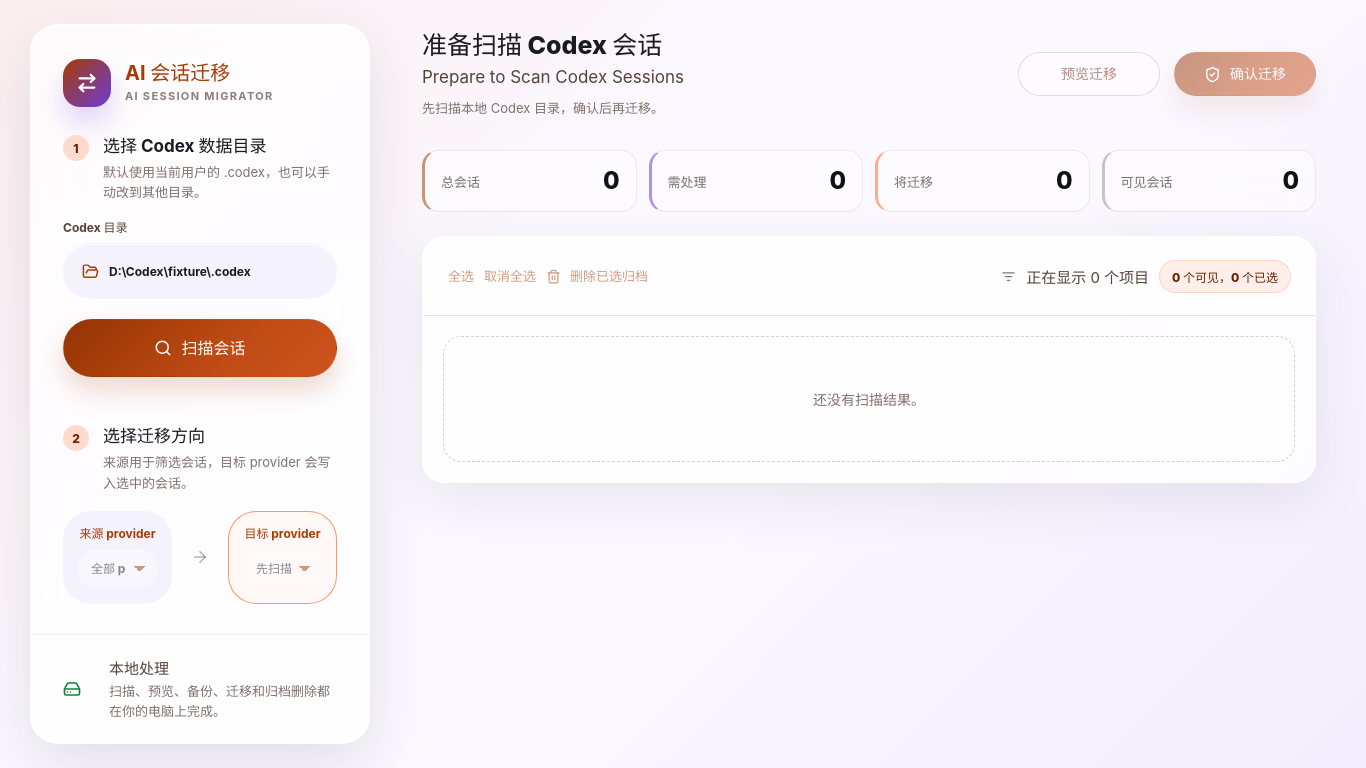
Test: scan shows active sessions before archived sessions with lifecycle badges
The image size is (1366, 768).
Expected: the field showing "D:\\Codex\\fixture\\.codex" is shown, [109,264,321,279]
Click the button "扫描会话".
click(200, 348)  # box [63,319,337,377]
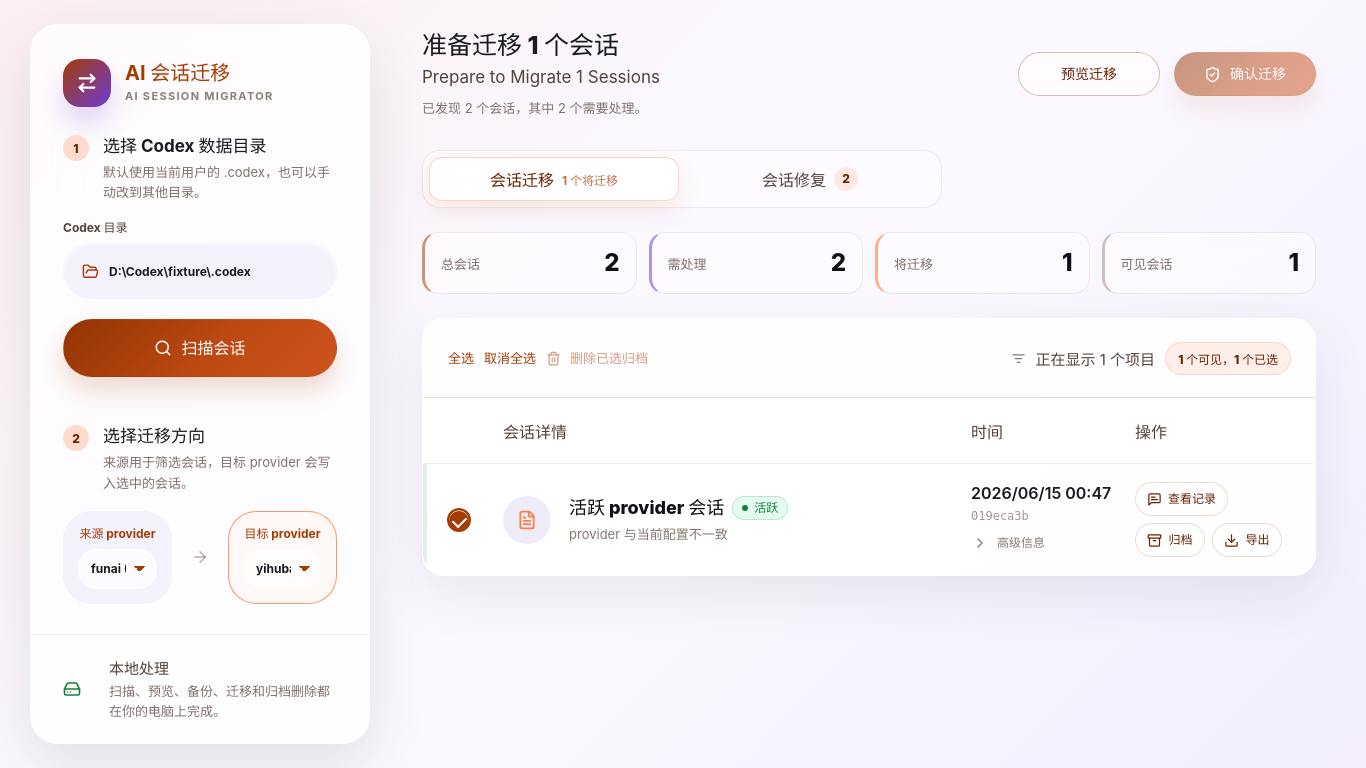
Expected: the element "归档 provider 会话" is not shown
Expected: the dropdown labelled "来源 provider" shows "funai (1)"
Expected: the text "1 个可见，1 个已选" is shown, [1165,342,1291,375]
Select "全部 provider (2)" in the dropdown labelled "来源 provider" at x=118, y=569, box [78,549,157,589]
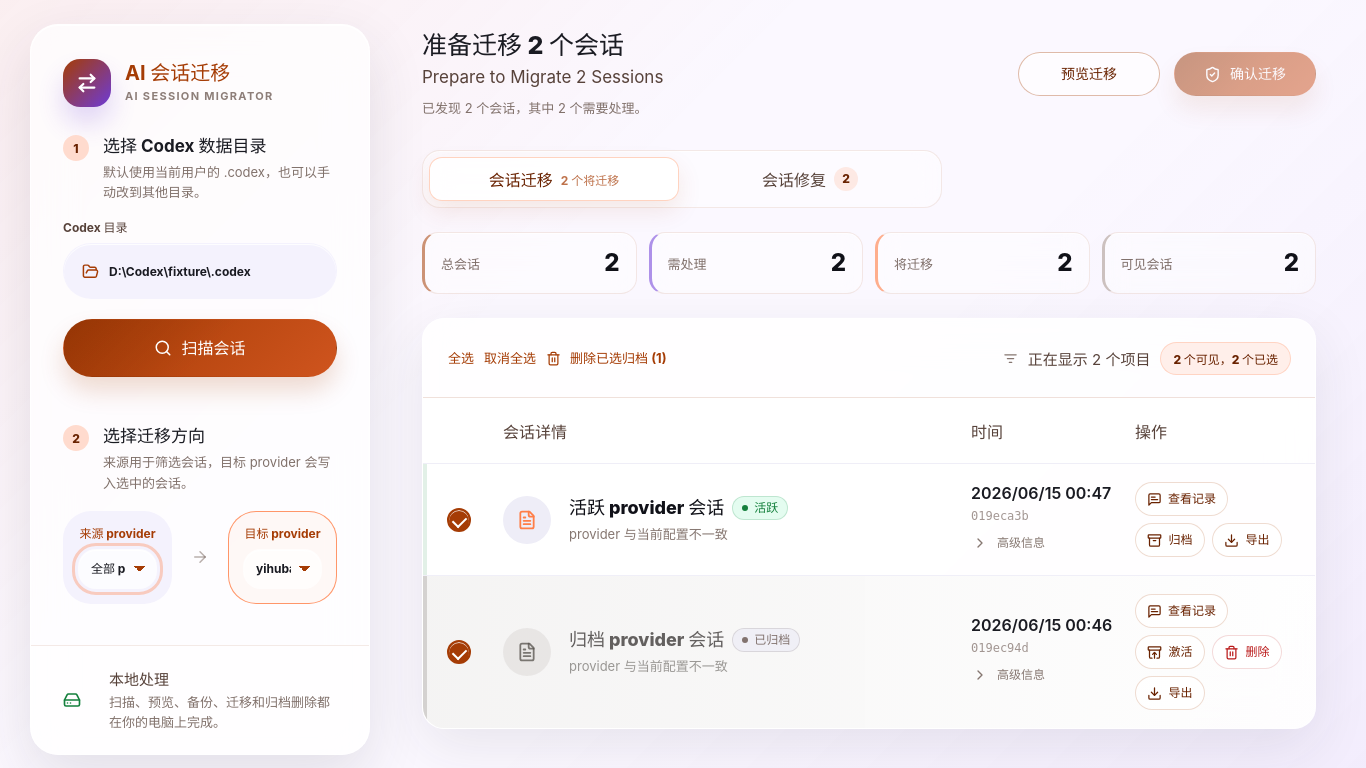
Expected: the text "活跃" is shown, [732,496,788,520]
Expected: the text "已归档" is shown, [732,628,800,652]
Expected: the button "激活" is enabled, [1135,635,1205,669]
